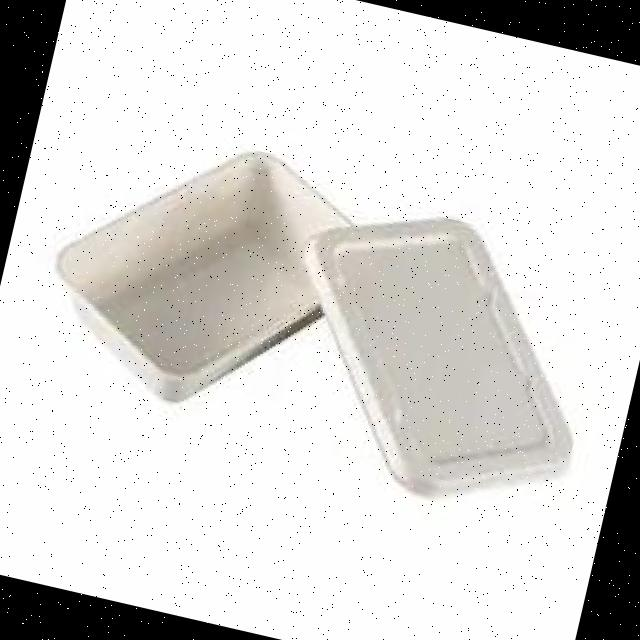styrofoam: (254, 183, 619, 526), (28, 105, 368, 432)
